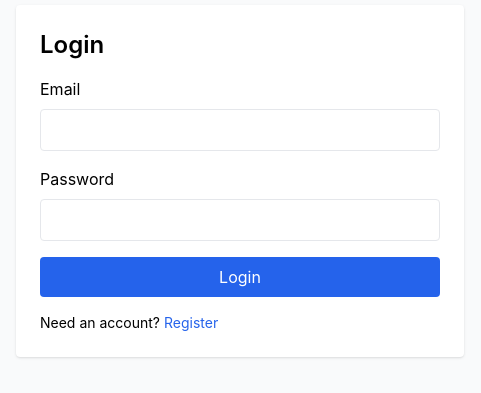
Scenario: LoginPage › invalid credentials display error message
Step 1. Type "user@example.com" into the field labelled "Email" → x=240, y=130, box [40,109,440,151]
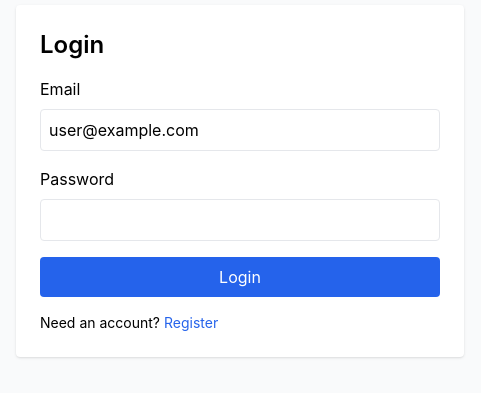
Step 2. Type "bad" into the password field labelled "Password" → x=240, y=220, box [40,199,440,241]
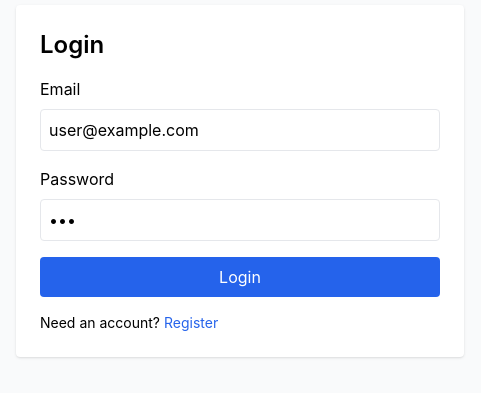
Step 3. Click the button "Login" → x=240, y=277, box [40,257,440,297]
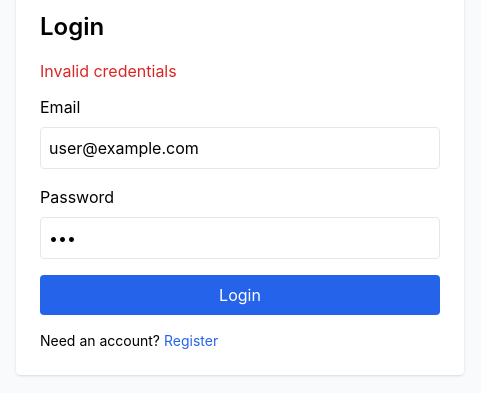
Check: the message reads "Invalid credentials", box [40,61,177,81]
